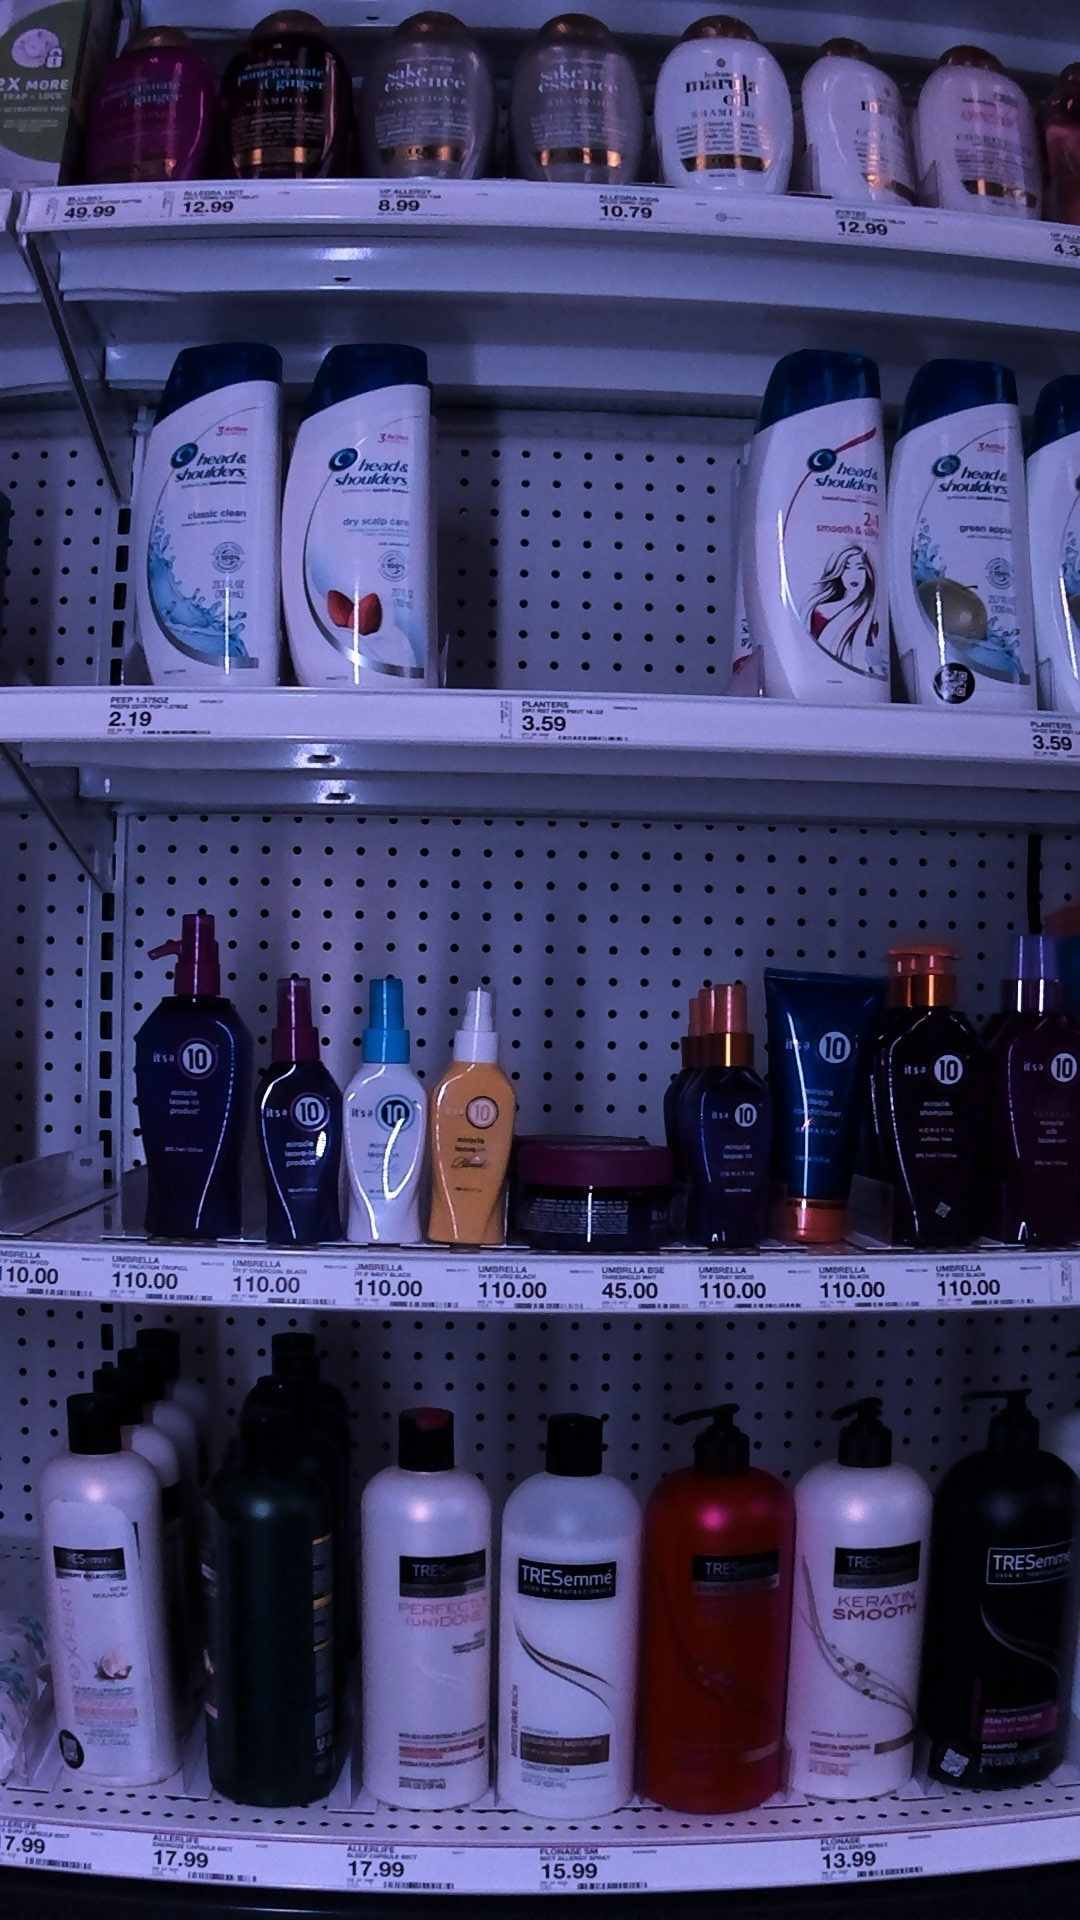ptag: (142, 1829, 269, 1894), (105, 1244, 229, 1309), (495, 691, 649, 742), (818, 1822, 931, 1888), (541, 1832, 658, 1895), (698, 1257, 808, 1323), (349, 1251, 464, 1315), (344, 1836, 455, 1900), (231, 1244, 331, 1311), (98, 686, 220, 740), (477, 1261, 584, 1323), (815, 1255, 922, 1317), (935, 1257, 1038, 1315), (597, 1257, 684, 1320), (1, 1253, 104, 1303), (1, 1832, 109, 1873), (38, 185, 144, 224), (585, 182, 669, 231), (369, 179, 455, 224), (175, 182, 255, 224), (831, 202, 893, 243)
